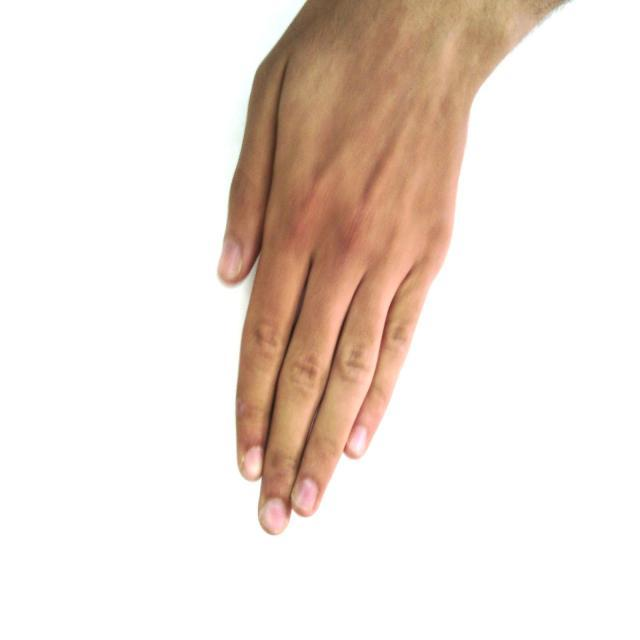Fingernail: (219, 239, 241, 279), (263, 499, 287, 533), (296, 478, 317, 514), (348, 427, 367, 456), (244, 447, 261, 479)
